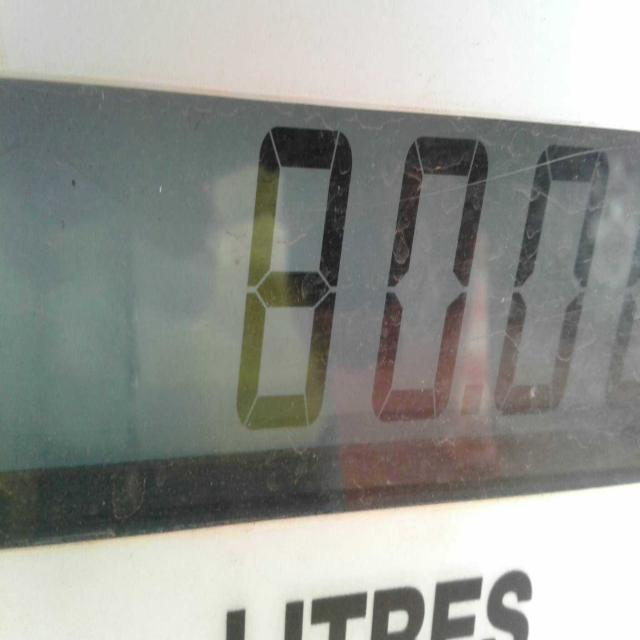.: (462, 374, 482, 414)
0: (375, 135, 483, 420), (506, 142, 606, 409)
8: (242, 124, 350, 433)
